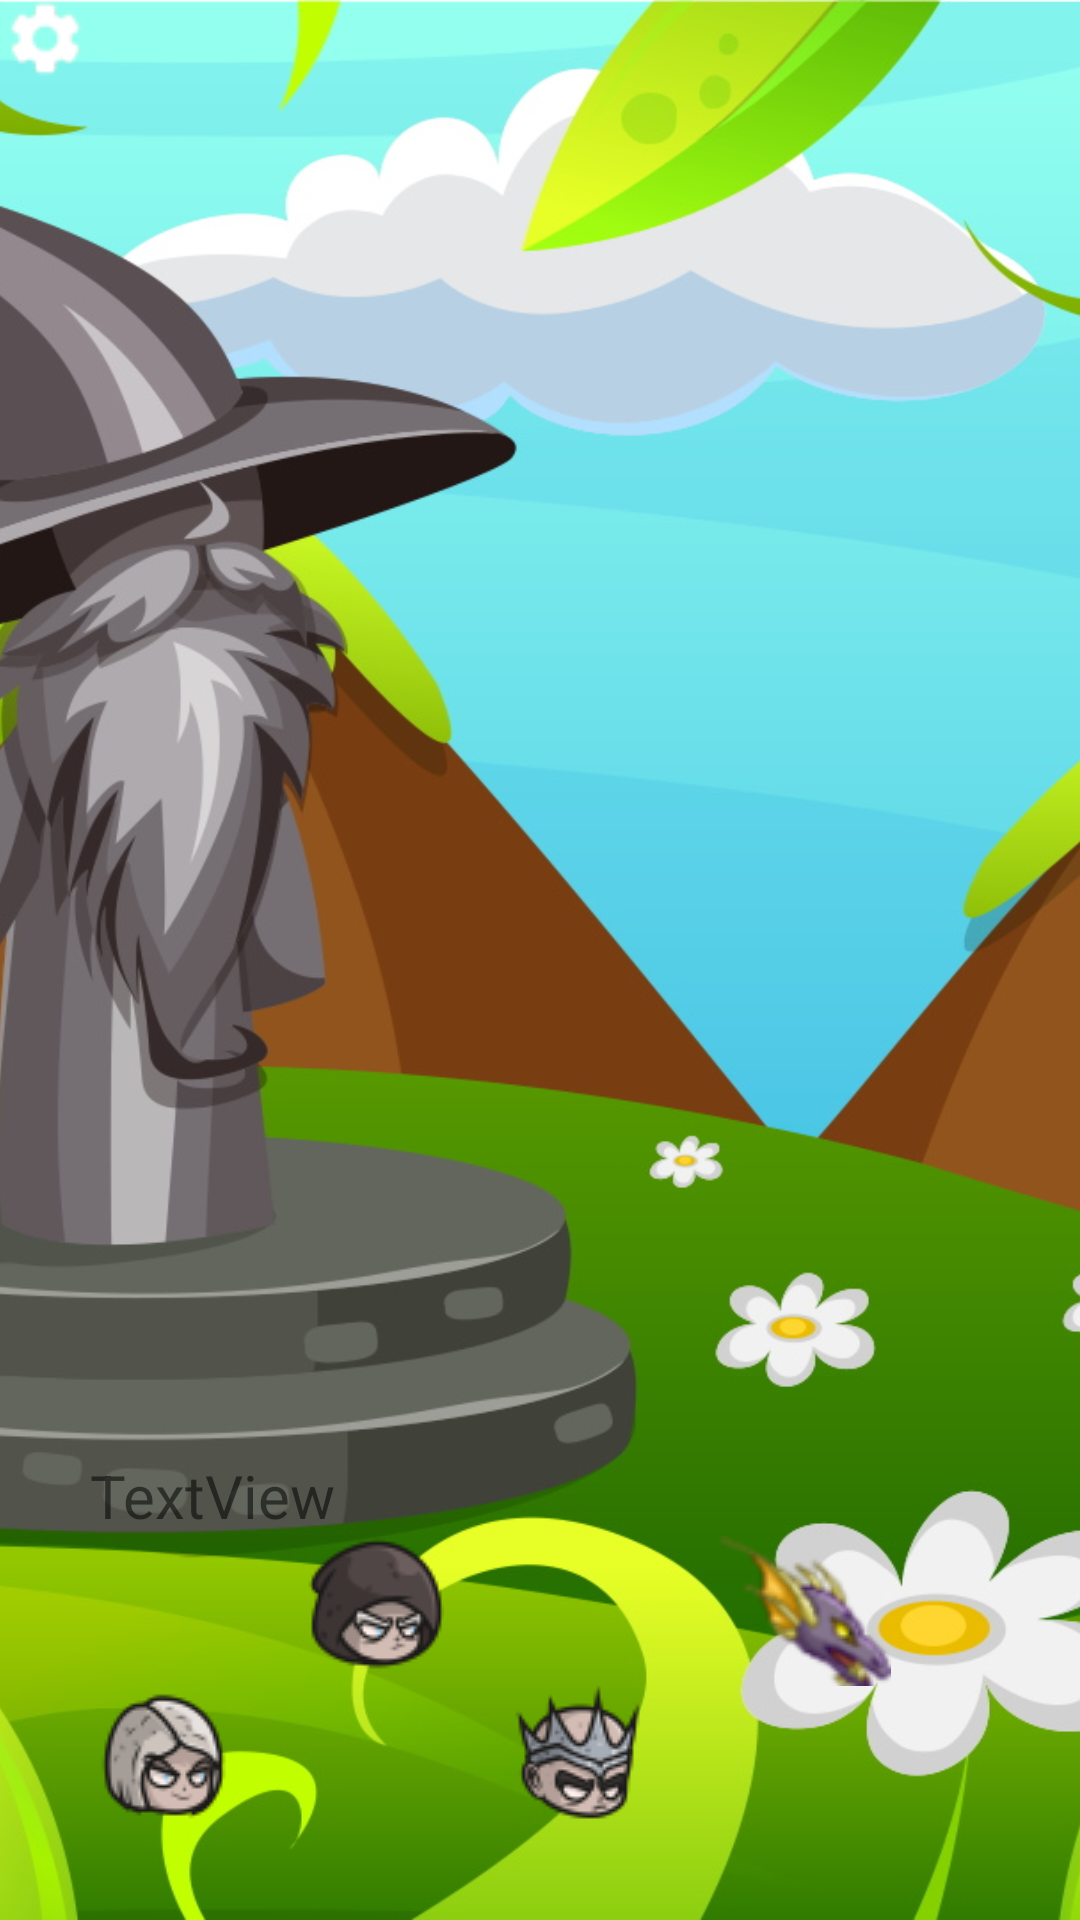

Point at icon controls on the screen. Image size 1080 x 1920, points as point (x, y).
settings: point (45, 37)
